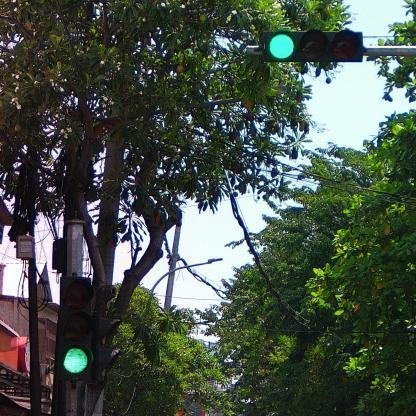green: (59, 276, 93, 382), (264, 30, 363, 64)
